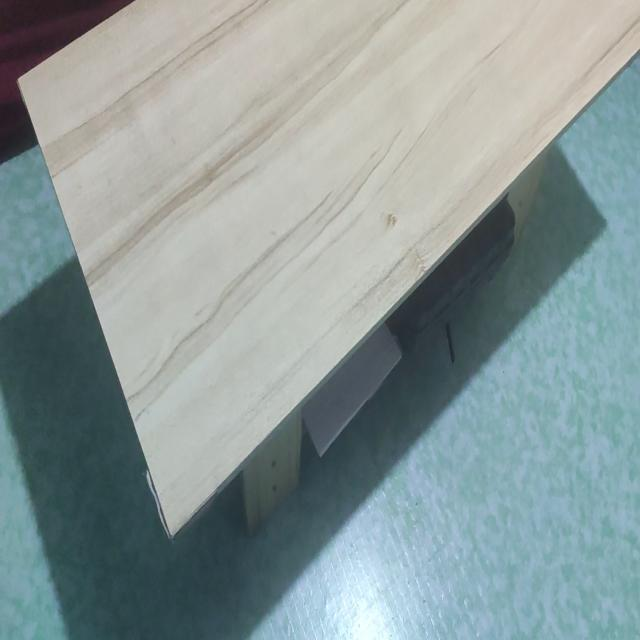table: (15, 0, 640, 532)
